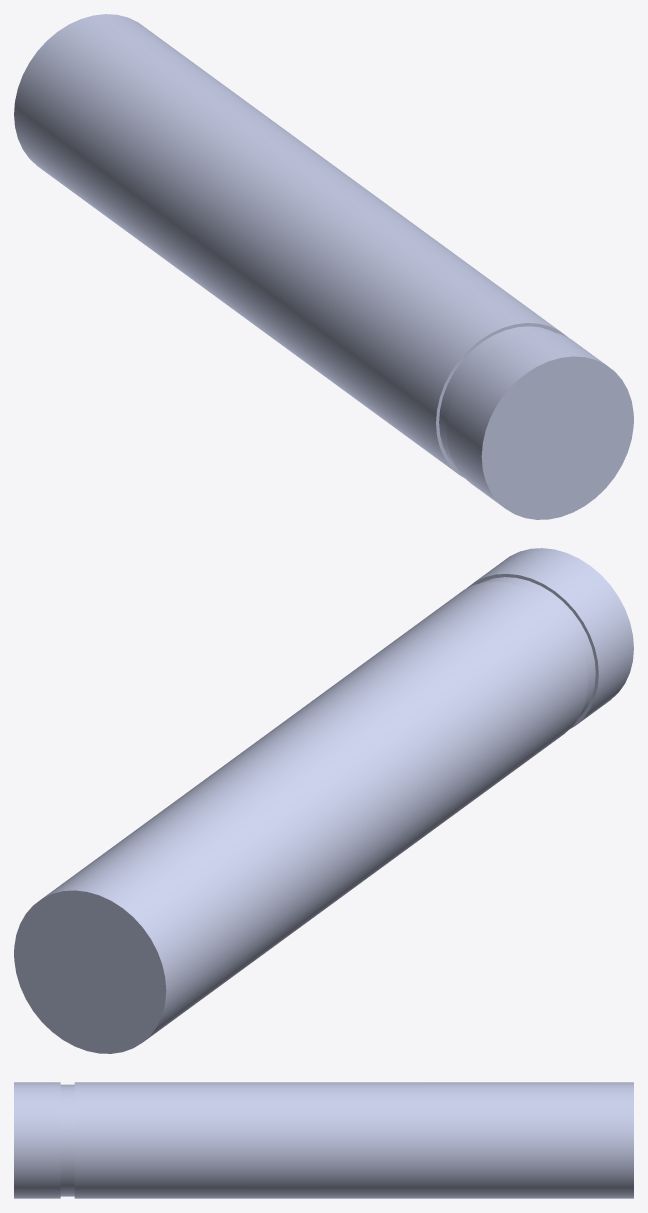
Rendered from shaft-model.glb.
3 renders of one model, top to bottom at view 1: azimuth 30°, elevation 25°; view 2: azimuth 150°, elevation 25°; view 3: azimuth 270°, elevation 25°, orthographic. The views are drawn at different scales.
Visible parts, largest first — view 1: shaft NRE Rev D; view 2: shaft NRE Rev D; view 3: shaft NRE Rev D.
Boxes of the visible parts, left/top/right/bottom form: shaft NRE Rev D: left=14, top=14, right=633, bottom=519; shaft NRE Rev D: left=14, top=548, right=633, bottom=1053; shaft NRE Rev D: left=14, top=1082, right=633, bottom=1198.
Size of the model in its own units: 0.005 by 0.005 by 0.0266.
